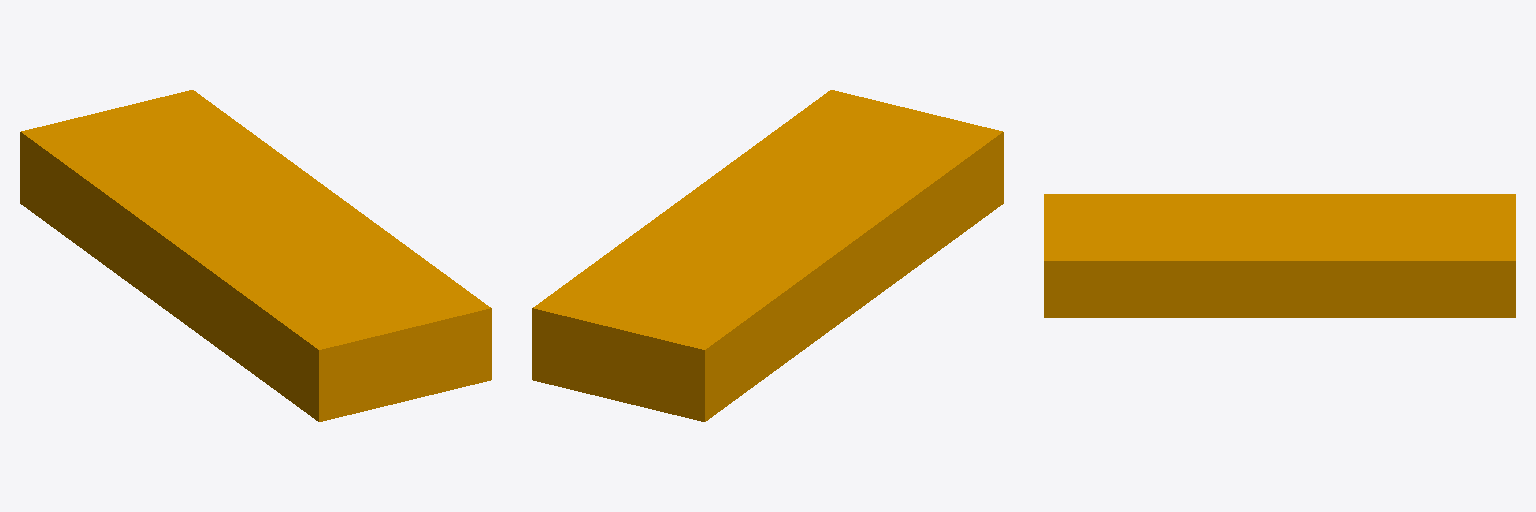
The robot description file, URDF, robot "support_box":
<robot name="support_box">

    <!-- Colours for RVIZ for geometric elements -->
    <material name="blue">
        <color rgba="0 0 0.8 1"/>
    </material>
    <material name="red">
        <color rgba="0.8 0 0 1"/>
    </material>
    <material name="green">
        <color rgba="0 0.8 0 1"/>
    </material>
    <material name="grey">
        <color rgba="0.75 0.75 0.75 1"/>
    </material>
    <material name="white">
        <color rgba="1.0 1.0 1.0 1"/>
    </material>
    <material name="black">
        <color rgba="0 0 0 1"/>
    </material>


	<!-- * * * Link Definitions * * * -->

    <link name="support_box_base_link">
 	    <inertial>
            <origin xyz="0 0 0" rpy="0 0 0"/>
            <mass value="10.0" />
            <inertia ixx="0.560416666667" ixy="0.0" ixz="0.0" iyy="2.22708333333" iyz="0.0" izz="2.08333333333"/>
        </inertial>
        <collision>
            <origin xyz="0 0 0" rpy="0 0 0"/>
            <geometry>
                <box size="0.5 1.5 0.2"/>
            </geometry>
        </collision>
        <visual>
            <origin rpy="0.0 0 0" xyz="0 0 0"/>
            <geometry>
                <box size="0.5 1.5 0.2"/>
            </geometry>
            <!--<material name="blue"/>-->
        </visual>
    </link>

    <gazebo reference="support_box_base_link">
        <kp>10000000.0</kp>
        <kd>10000.0</kd>
        <mu1>2</mu1>
        <mu2>2</mu2>
        <material>Gazebo/Wood</material>
    </gazebo>

</robot>

--- Render facts (derived) ---
3 views of the same robot in one strip: view 1: azimuth 30°, elevation 25°; view 2: azimuth 150°, elevation 25°; view 3: azimuth 270°, elevation 25° (orthographic).
Model support_box with 1 links and 0 joints (none), rooted at support_box_base_link, posed all joints at 0.
Links seen in each view (by area): view 1: support_box_base_link; view 2: support_box_base_link; view 3: support_box_base_link.
Link boxes in pixels (x1,y1,x2,y2): support_box_base_link: (20, 90, 491, 421); support_box_base_link: (532, 90, 1003, 421); support_box_base_link: (1044, 194, 1515, 317).
Size in the robot's own frame: 0.5 by 1.5 by 0.2 metres.
Geometry: primitives only (box / cylinder / sphere), no mesh files.